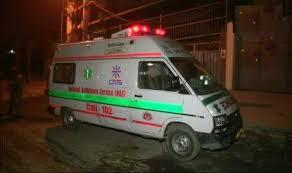Emergency-Vehicles: (46, 40, 244, 155)
